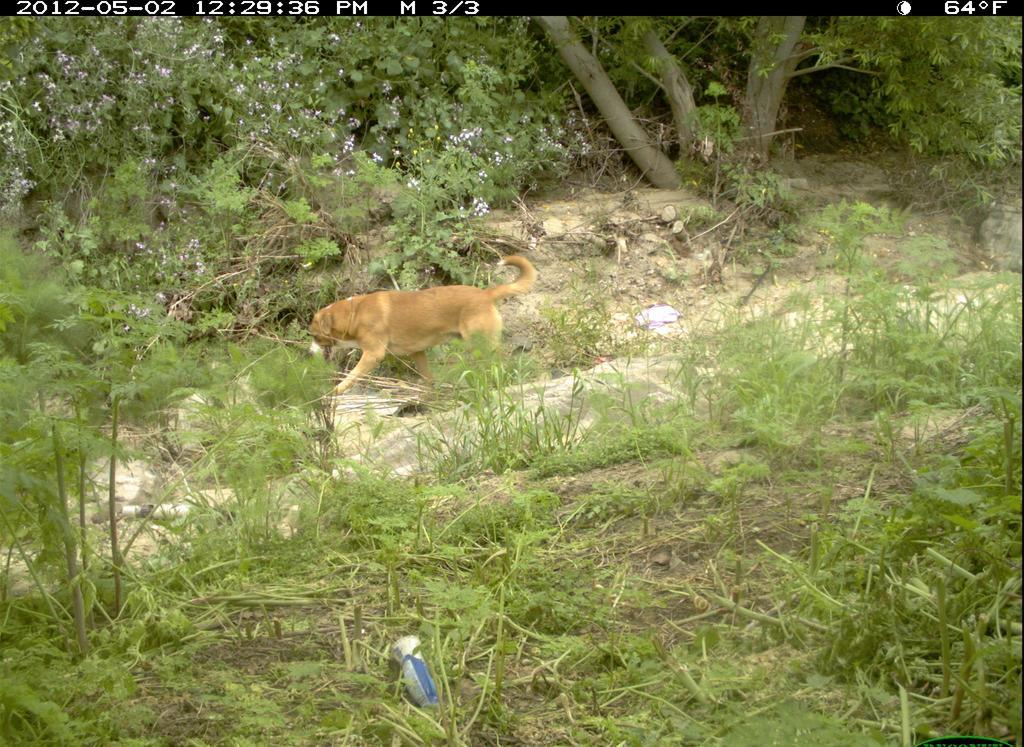dog: (285, 242, 545, 420)
